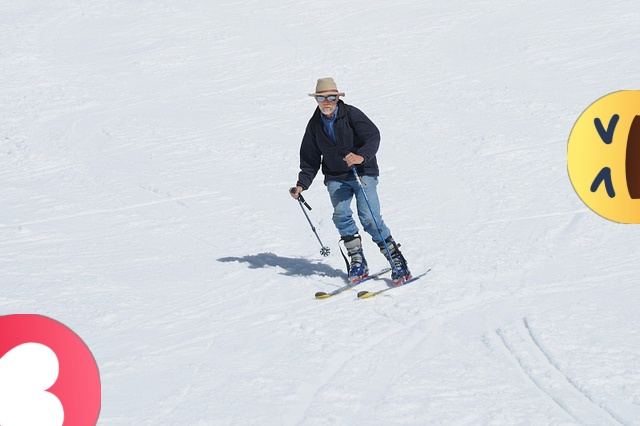haha: (567, 90, 640, 224)
love: (0, 314, 101, 426)
